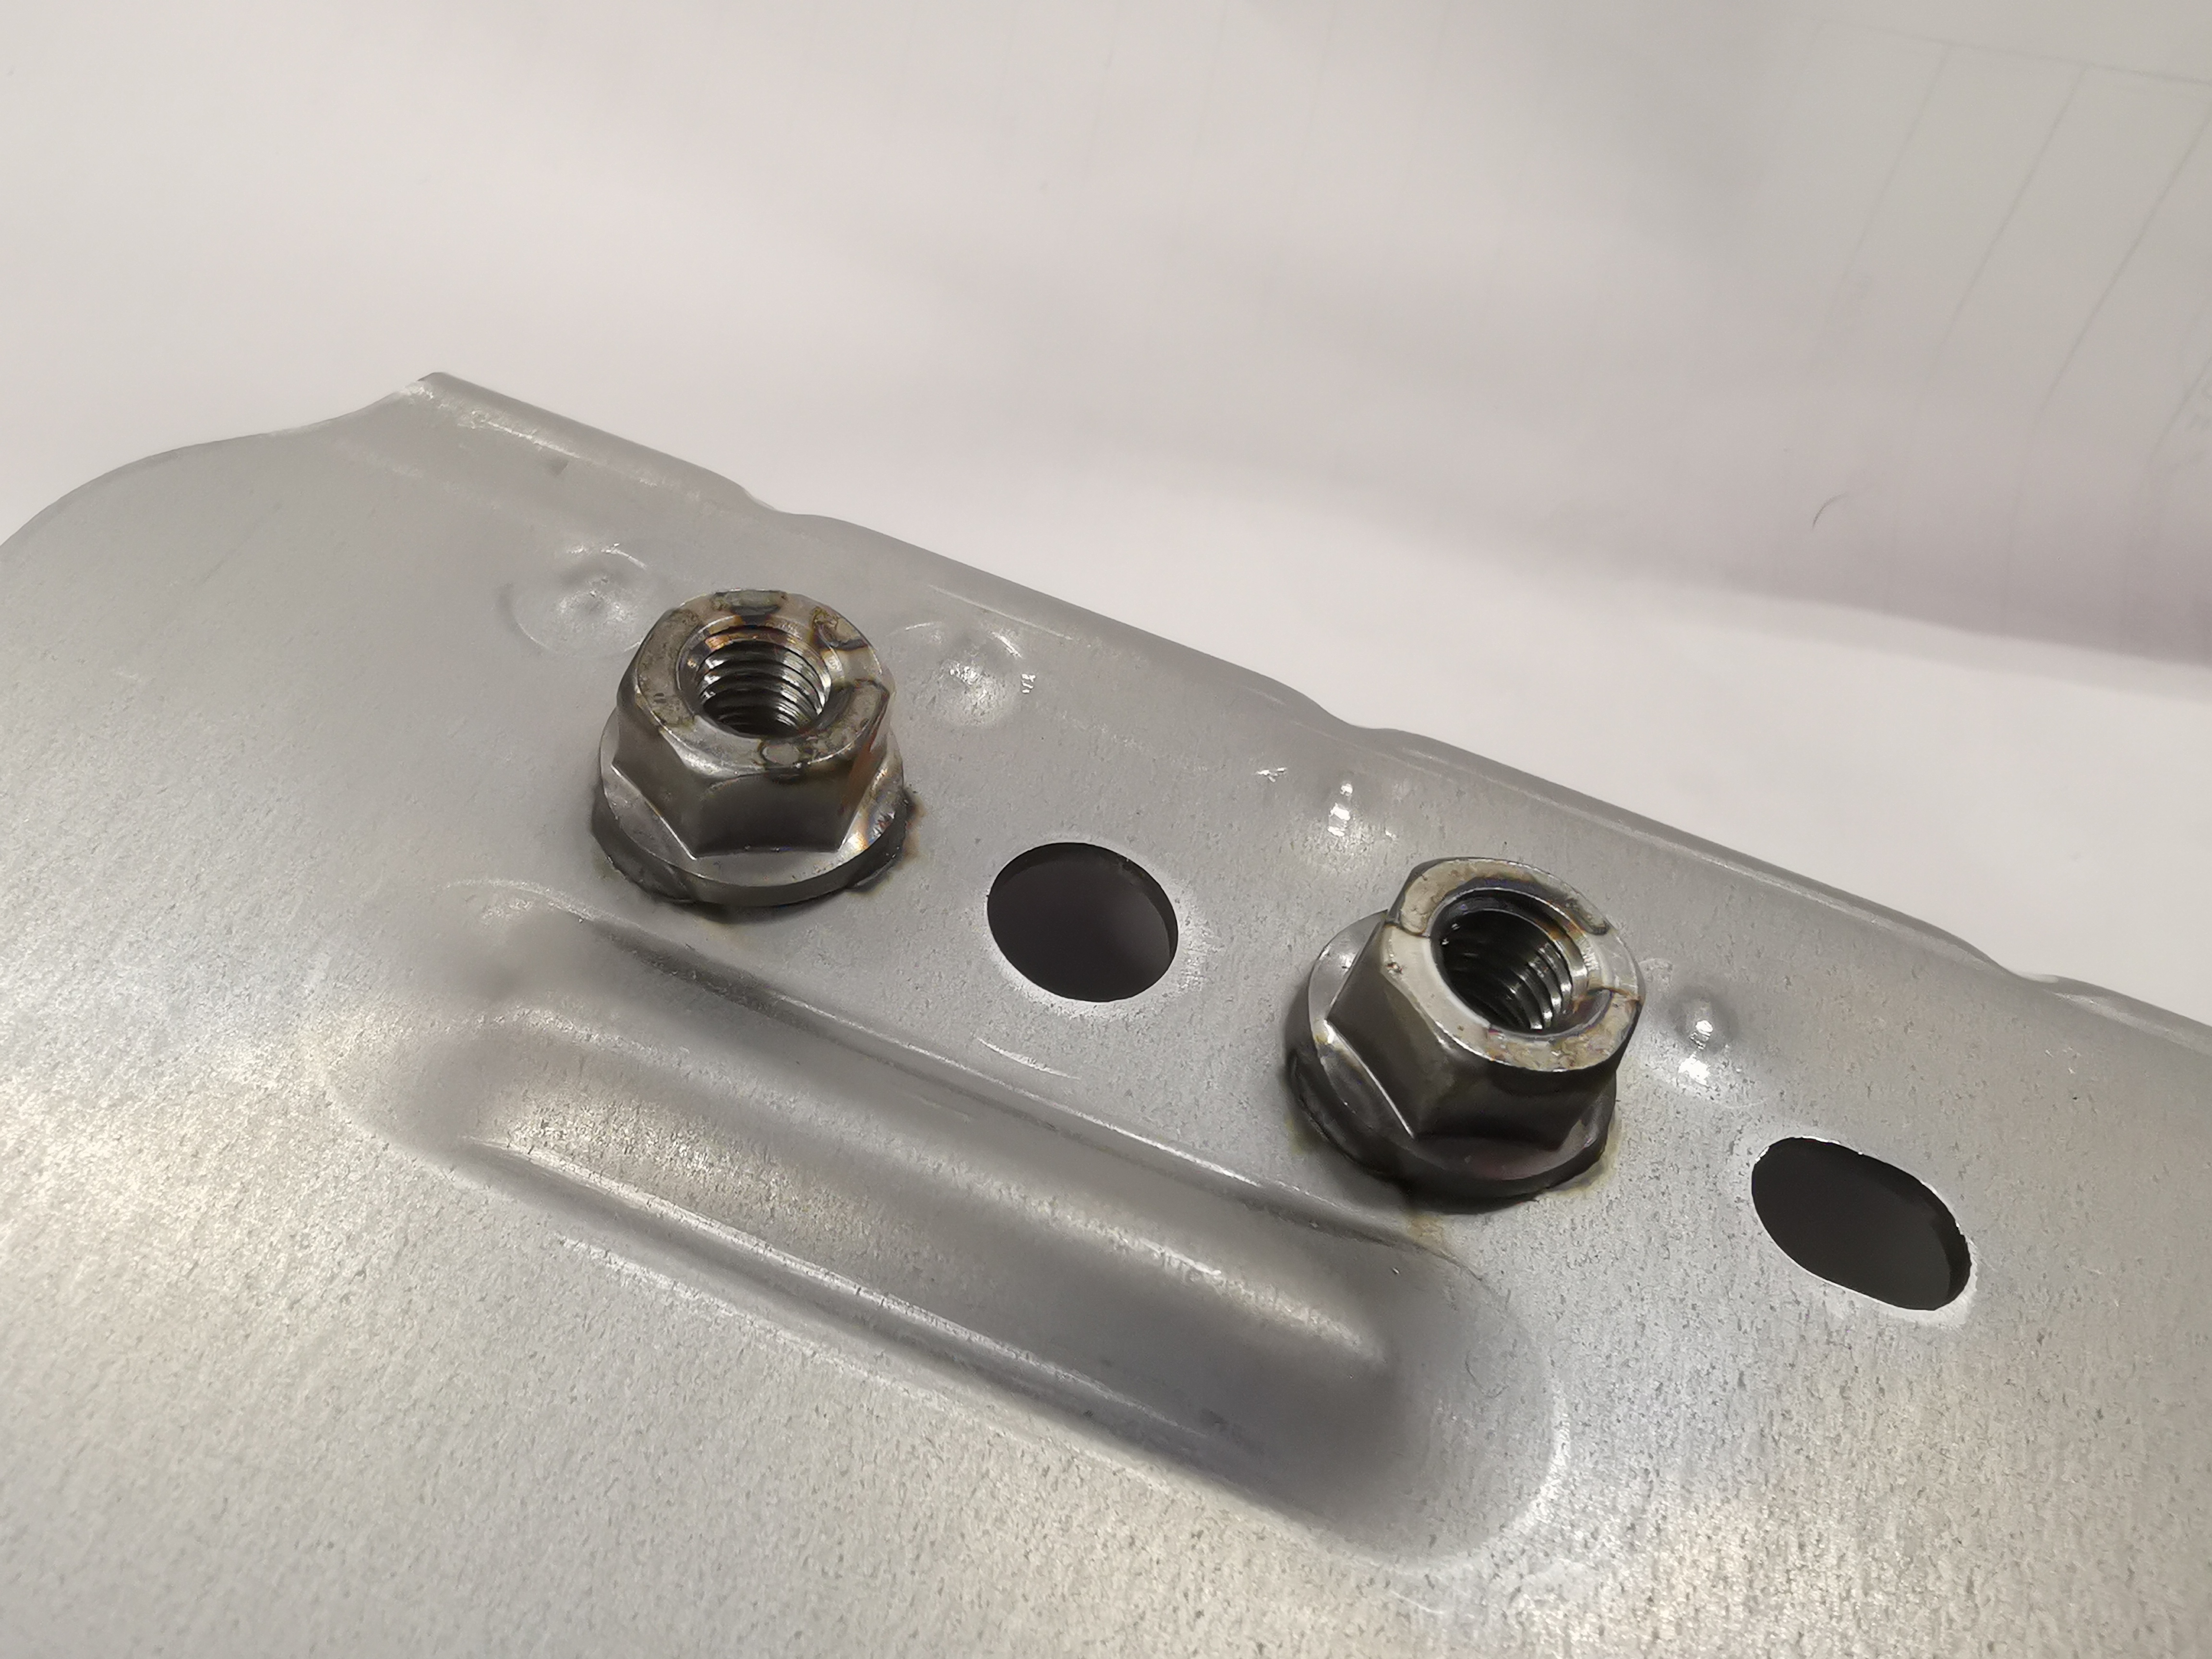dog: (1271, 849, 1655, 1211), (583, 582, 921, 922)
